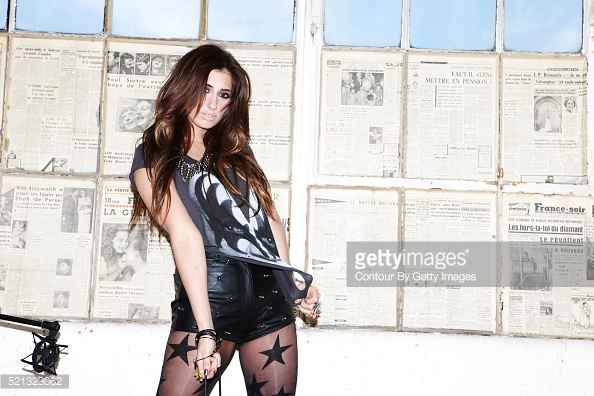em pe: (128, 36, 307, 396)
